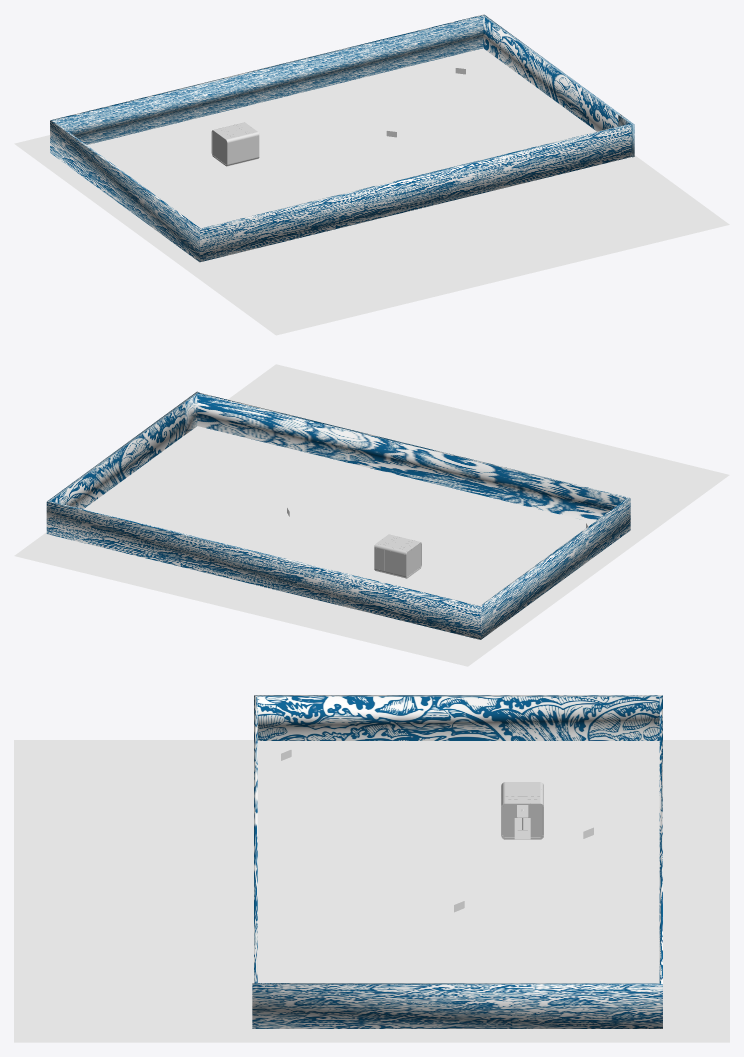
File: BakeTestv4.glb
The picture shows the model from 3 angles, top to bottom: view 1: azimuth 30°, elevation 25°; view 2: azimuth 150°, elevation 25°; view 3: azimuth 270°, elevation 25°; orthographic projection. The views are drawn at different scales.
Visible parts, largest first — view 1: Plane, Wall, Cube1; view 2: Plane, Wall, Cube1; view 3: Plane, Wall, Cube1.
Boxes of the visible parts, <box> form: Plane: <box>14,48,729,335</box>; Wall: <box>50,14,634,262</box>; Cube1: <box>211,122,259,166</box>; Plane: <box>14,364,729,666</box>; Wall: <box>46,391,630,639</box>; Cube1: <box>374,534,421,578</box>; Plane: <box>14,740,729,1042</box>; Wall: <box>252,695,662,1028</box>; Cube1: <box>501,782,543,839</box>.
Size of the model in its own units: 39.53 by 3.2 by 39.53.
Materials: 3 (1 with a texture image).
